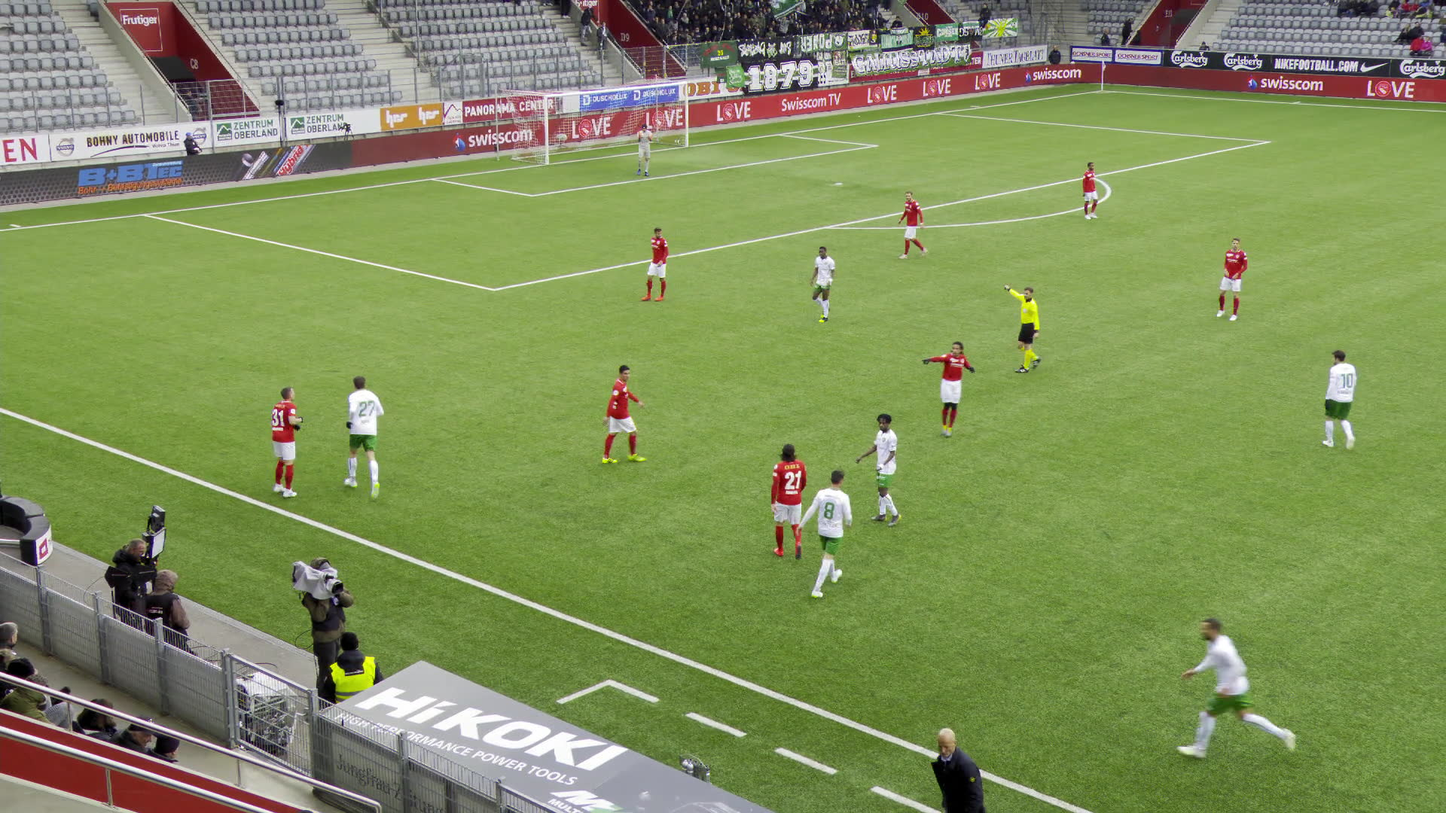player: (1180, 615, 1304, 769), (795, 467, 851, 598), (853, 411, 903, 526), (920, 339, 975, 439), (344, 376, 389, 498), (767, 441, 810, 565), (597, 362, 645, 467), (269, 385, 308, 500), (1319, 348, 1359, 451), (1213, 236, 1249, 321), (894, 187, 928, 261), (807, 245, 837, 322), (642, 225, 670, 302), (1079, 160, 1103, 220), (634, 122, 652, 177)
referee: (999, 282, 1048, 373)
